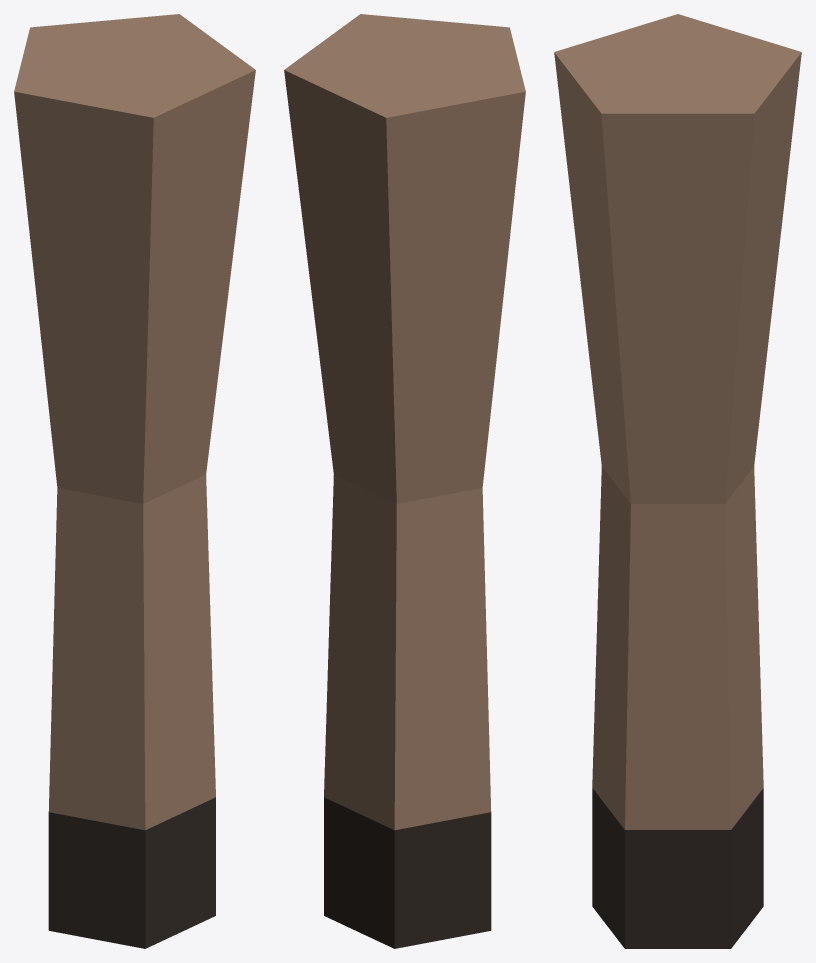
The model's file is animal_boomalope_leg.obj.
3 views of the same model, side by side, from view 1: azimuth 30°, elevation 25°; view 2: azimuth 150°, elevation 25°; view 3: azimuth 270°, elevation 25° (orthographic).
Visible parts, largest first — view 1: animal_boomalope_leg; view 2: animal_boomalope_leg; view 3: animal_boomalope_leg.
Boxes of the visible parts, bbox=[...] form: animal_boomalope_leg: bbox=[14, 14, 255, 948]; animal_boomalope_leg: bbox=[284, 14, 525, 948]; animal_boomalope_leg: bbox=[554, 14, 801, 948].
Size of the model in its own units: 0.1261 by 0.5016 by 0.1326.
